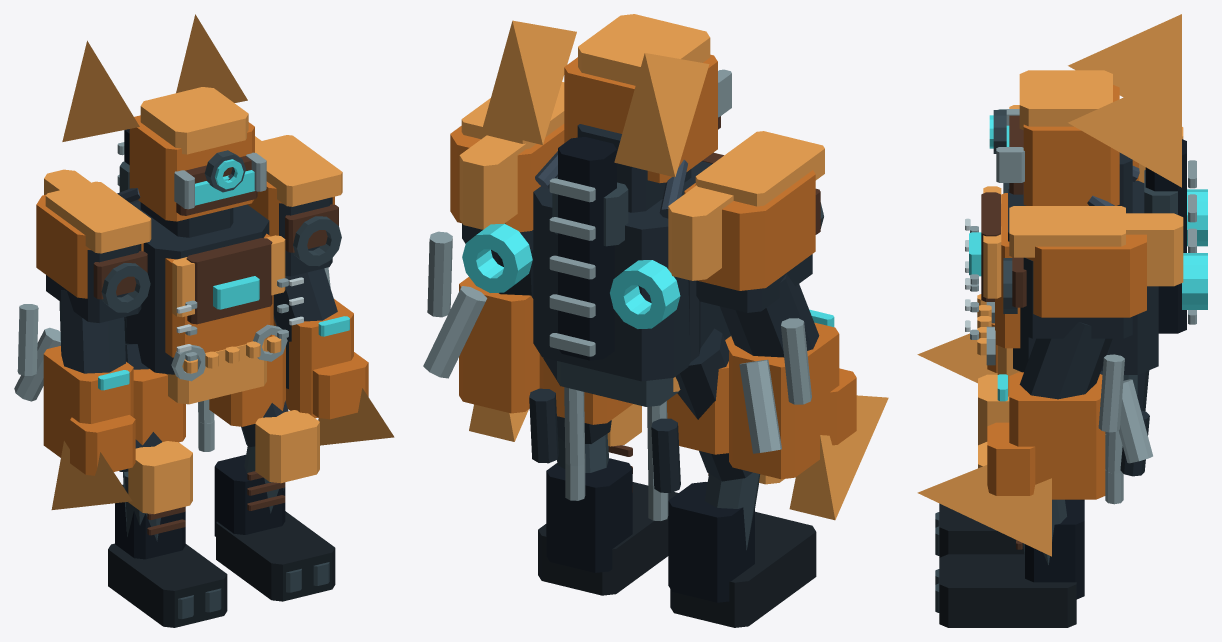
Rendered from enemy_runner.obj.
The picture shows the model from 3 angles, left to right: view 1: azimuth 30°, elevation 25°; view 2: azimuth 150°, elevation 25°; view 3: azimuth 270°, elevation 25°; orthographic projection. The views are drawn at different scales.
Size of the model in its own units: 1.5 by 2.29 by 1.12.
